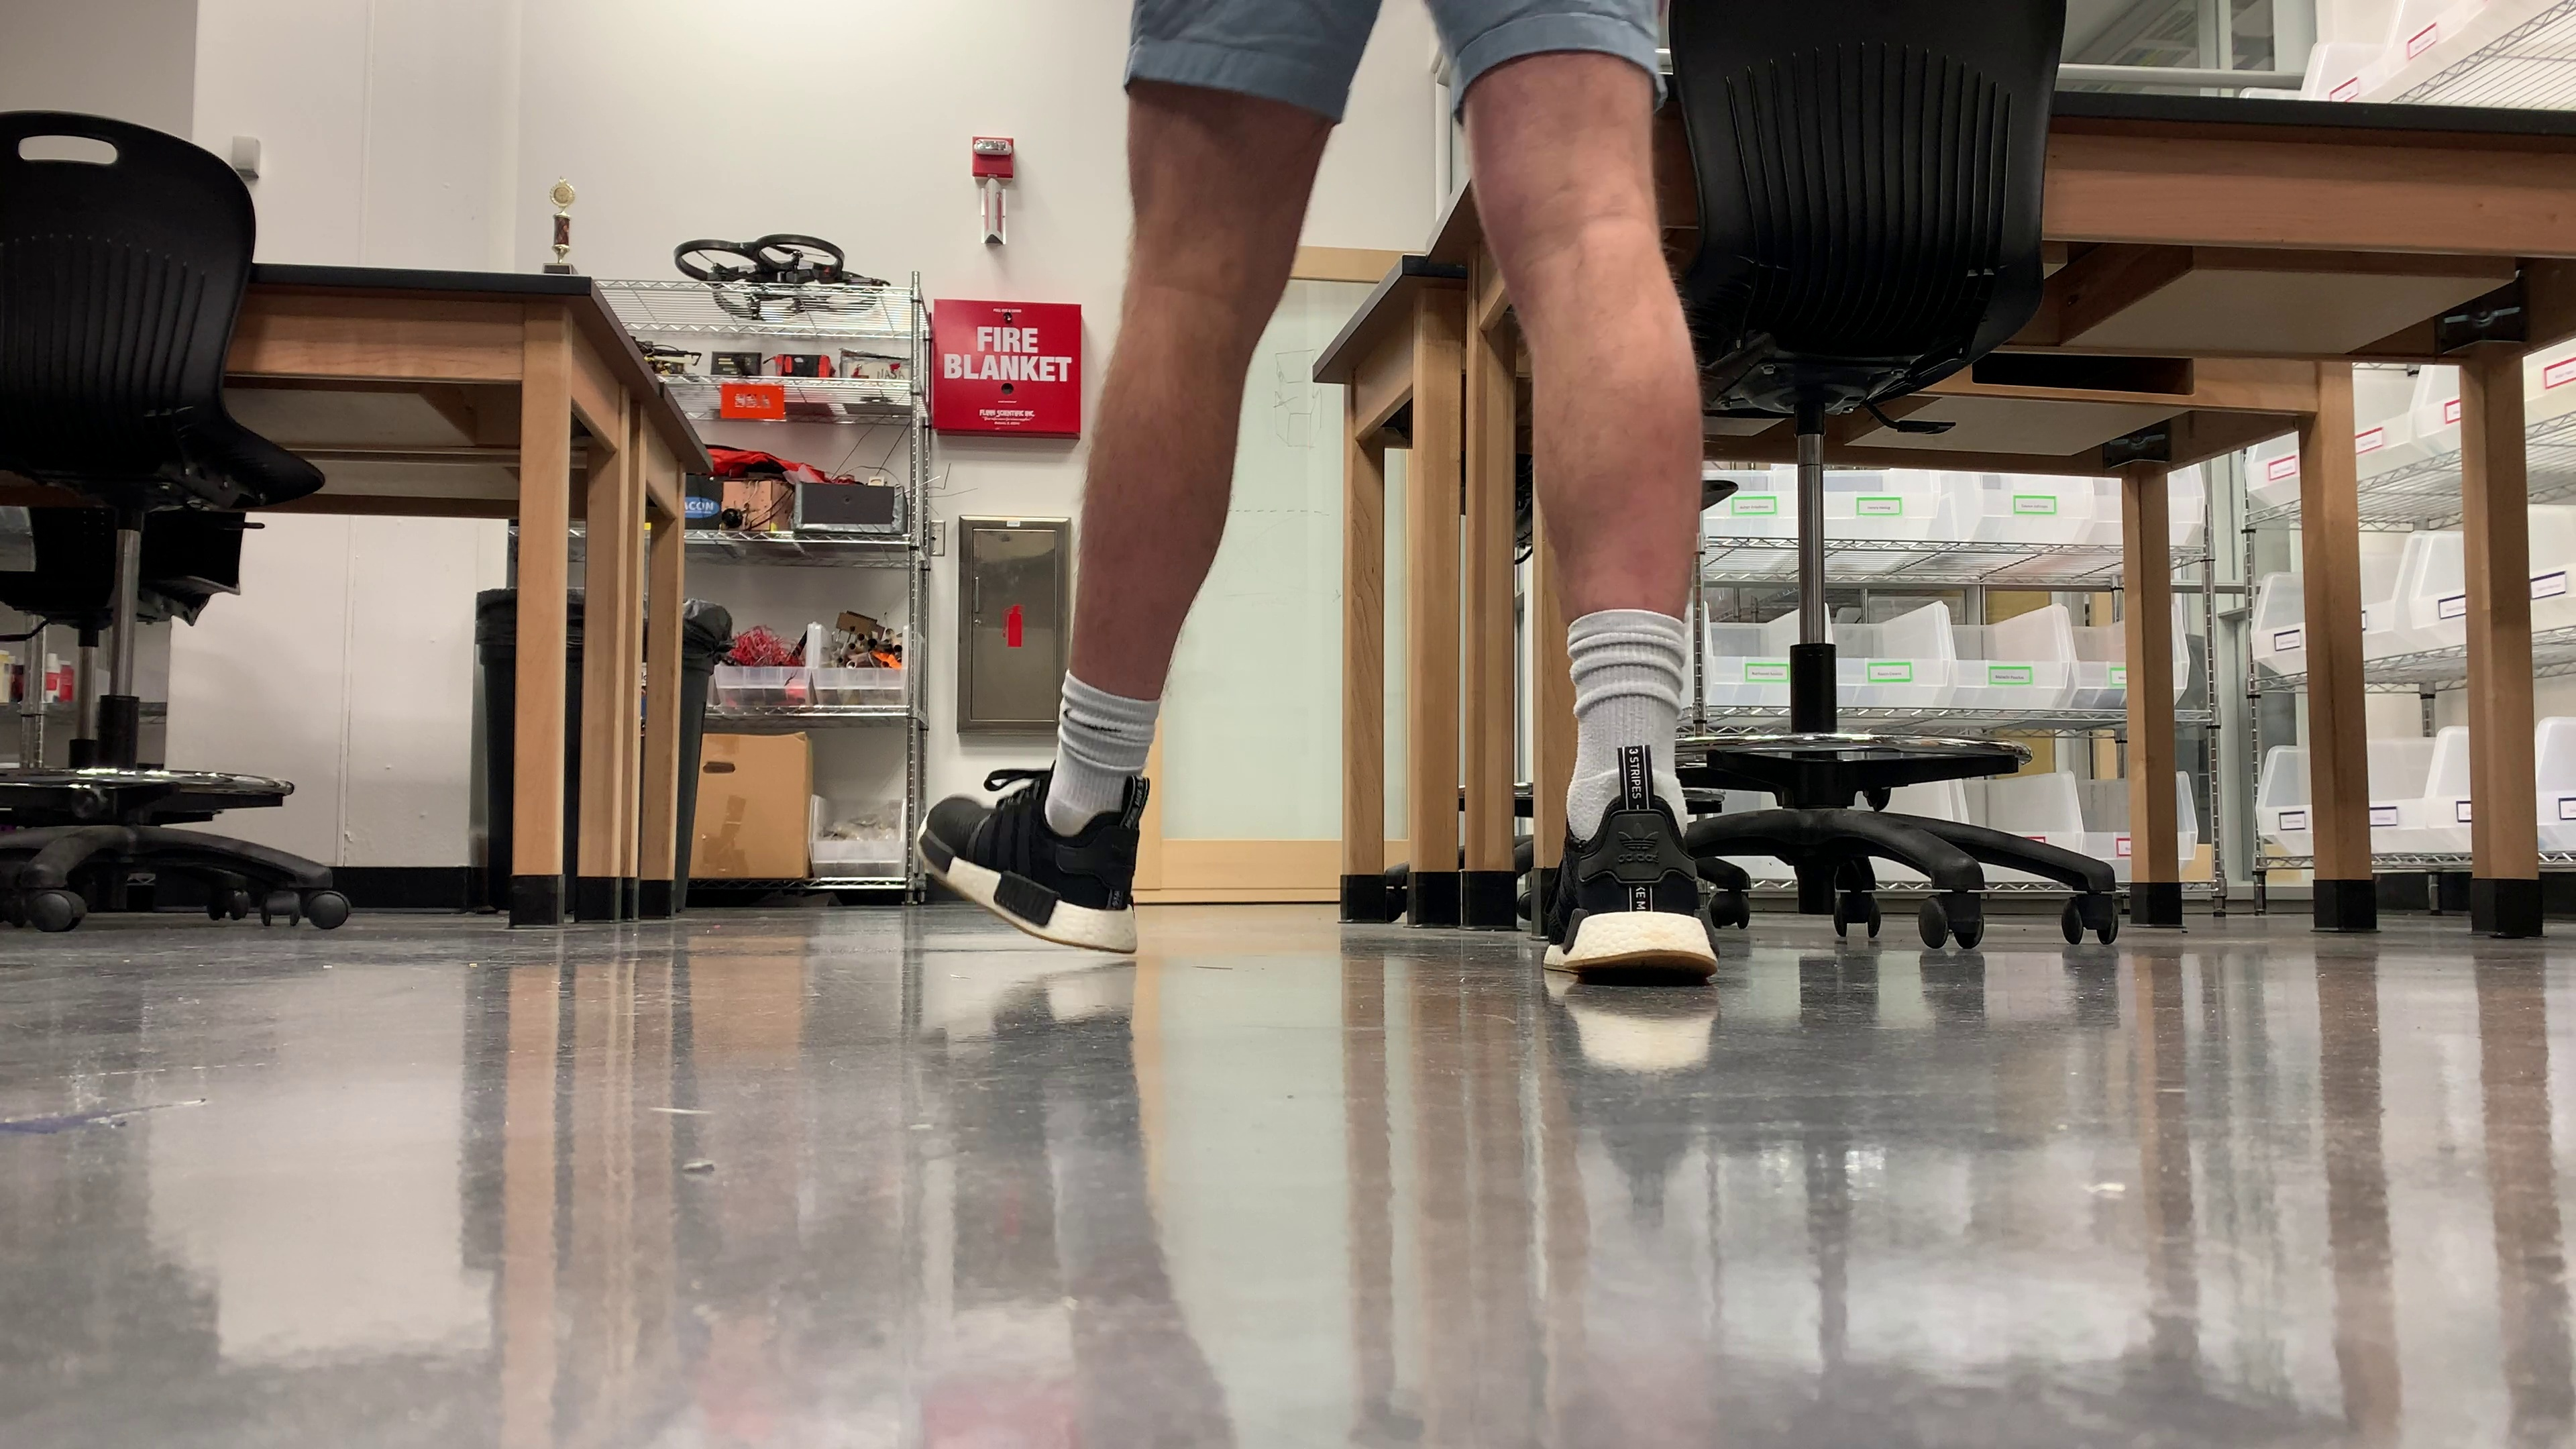shoe: (918, 770, 1141, 952), (1541, 794, 1720, 982)
